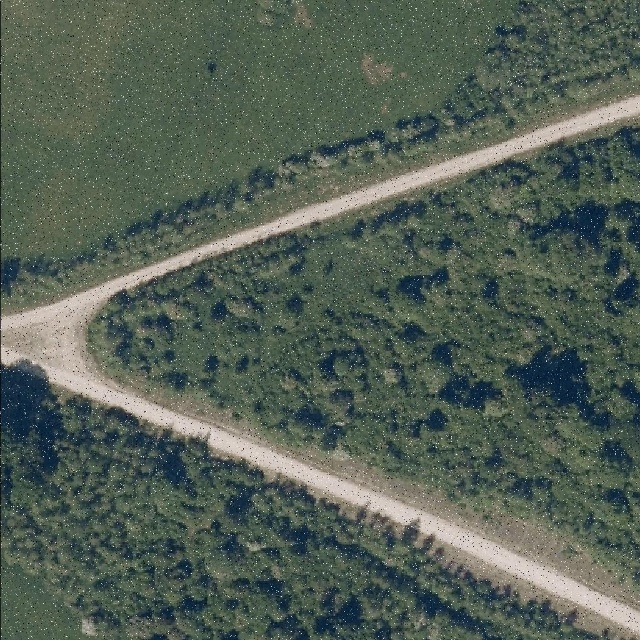vegetation: (90, 128, 640, 585), (0, 0, 640, 303), (0, 371, 607, 640)
